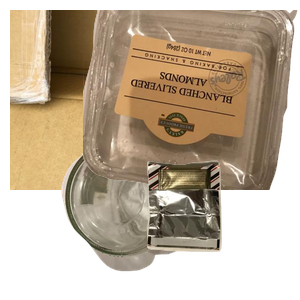cardboard: (10, 10, 250, 190)
glass: (59, 135, 254, 300)
plastic: (83, 10, 300, 190)
trash: (144, 158, 300, 300)
